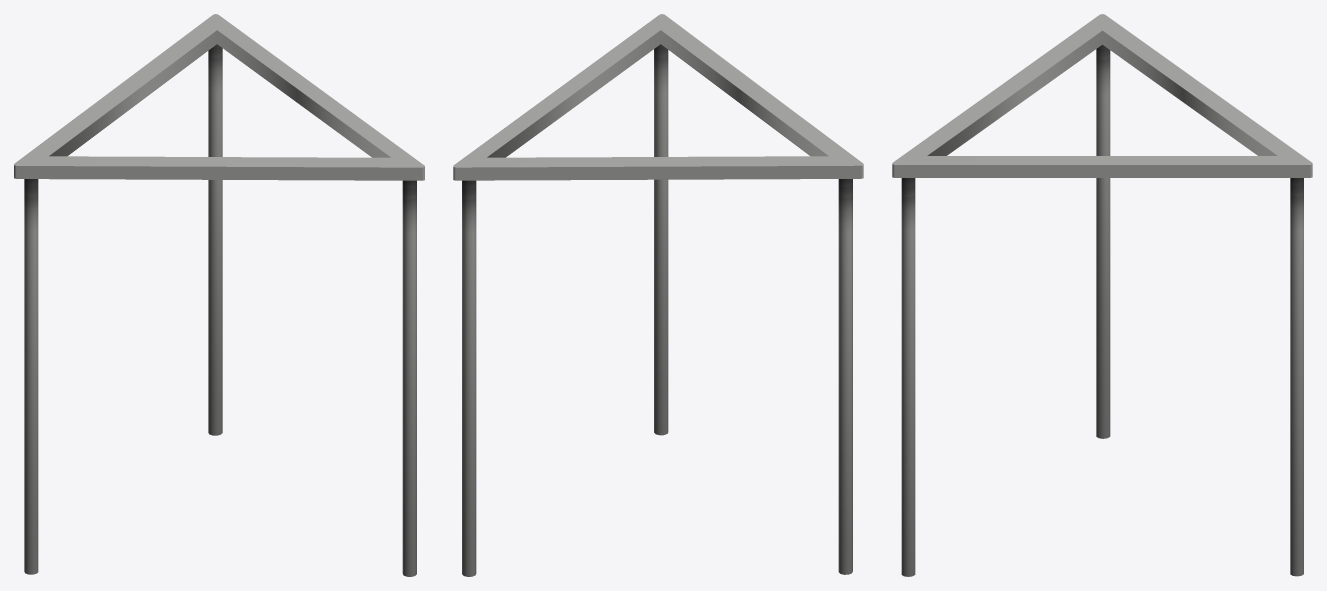
Rendered from LabDesk_Object_TripodStand.fbx.
The picture shows the model from 3 angles, left to right: view 1: azimuth 30°, elevation 25°; view 2: azimuth 150°, elevation 25°; view 3: azimuth 270°, elevation 25°; orthographic projection.
Parts seen in each view (by area): view 1: LabDesk_Object_BunsenBurner1; view 2: LabDesk_Object_BunsenBurner1; view 3: LabDesk_Object_BunsenBurner1.
Boxes of the visible parts, x1=… form: LabDesk_Object_BunsenBurner1: x1=14, y1=14, x2=424, y2=576; LabDesk_Object_BunsenBurner1: x1=453, y1=14, x2=863, y2=576; LabDesk_Object_BunsenBurner1: x1=892, y1=14, x2=1312, y2=576.
Size of the model in its own units: 5.5 by 7.03 by 6.47.
1 material, 1 textured.
